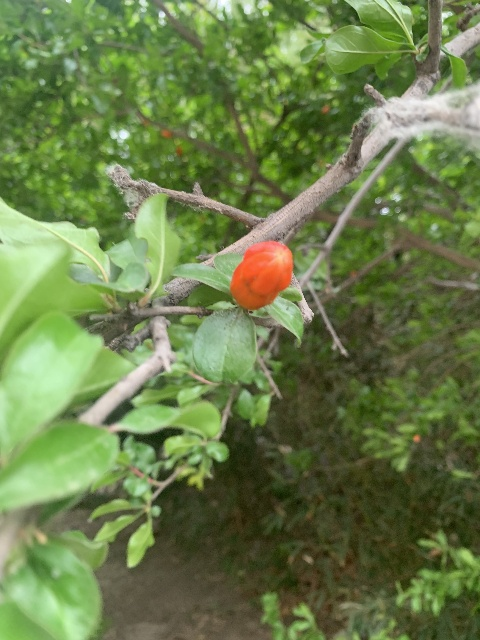bud: (230, 240, 293, 310)
